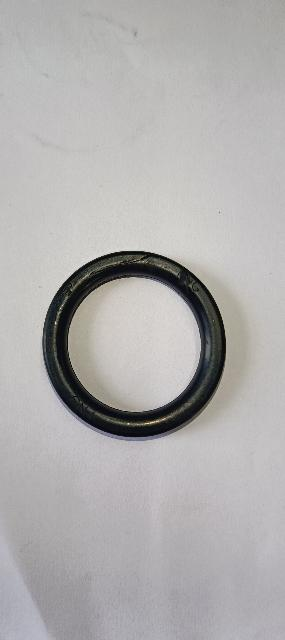4: (88, 254, 151, 277)
scratch: (176, 264, 196, 292)
